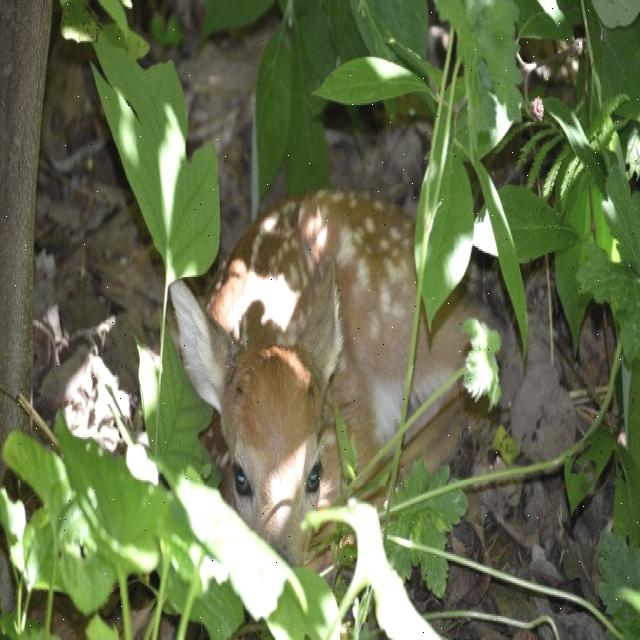deer: (181, 234, 356, 537)
